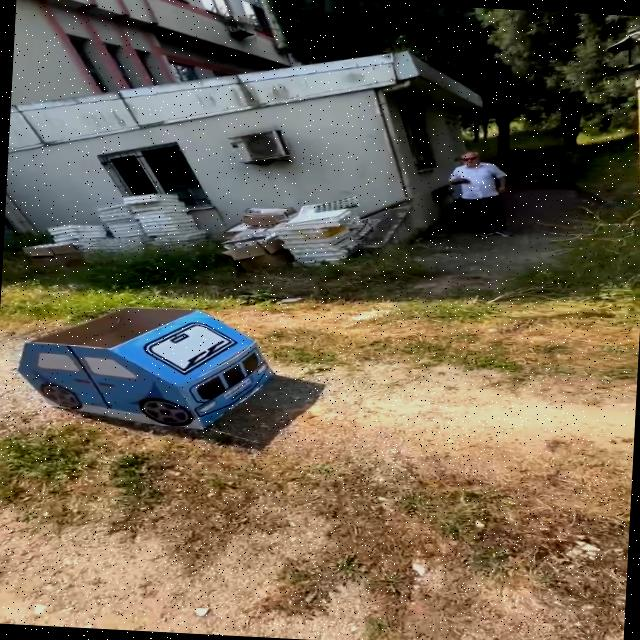blue_car: (1, 296, 322, 447)
